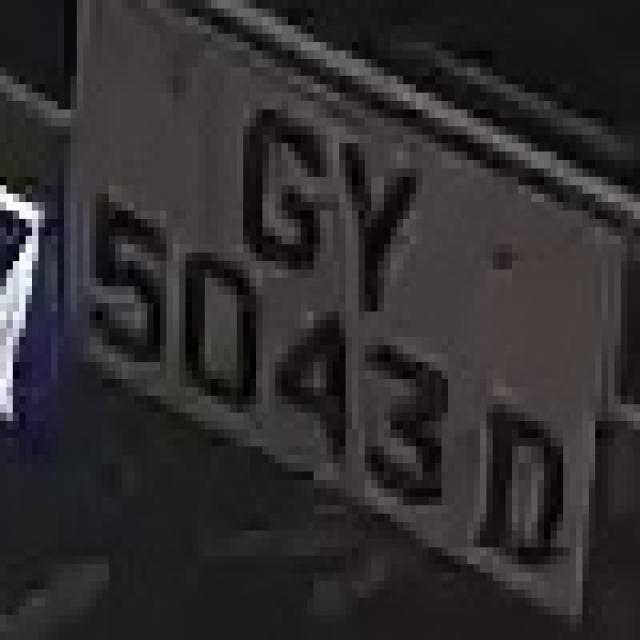0: (160, 219, 250, 438)
3: (358, 278, 461, 522)
4: (256, 252, 365, 454)
5: (70, 160, 160, 387)
D: (468, 362, 582, 606)
G: (230, 84, 326, 295)
Y: (307, 101, 429, 303)
